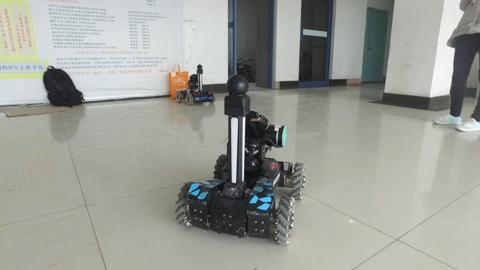bag: (39, 63, 87, 109), (167, 61, 192, 101)
chariot: (174, 72, 306, 246), (174, 63, 215, 106)
